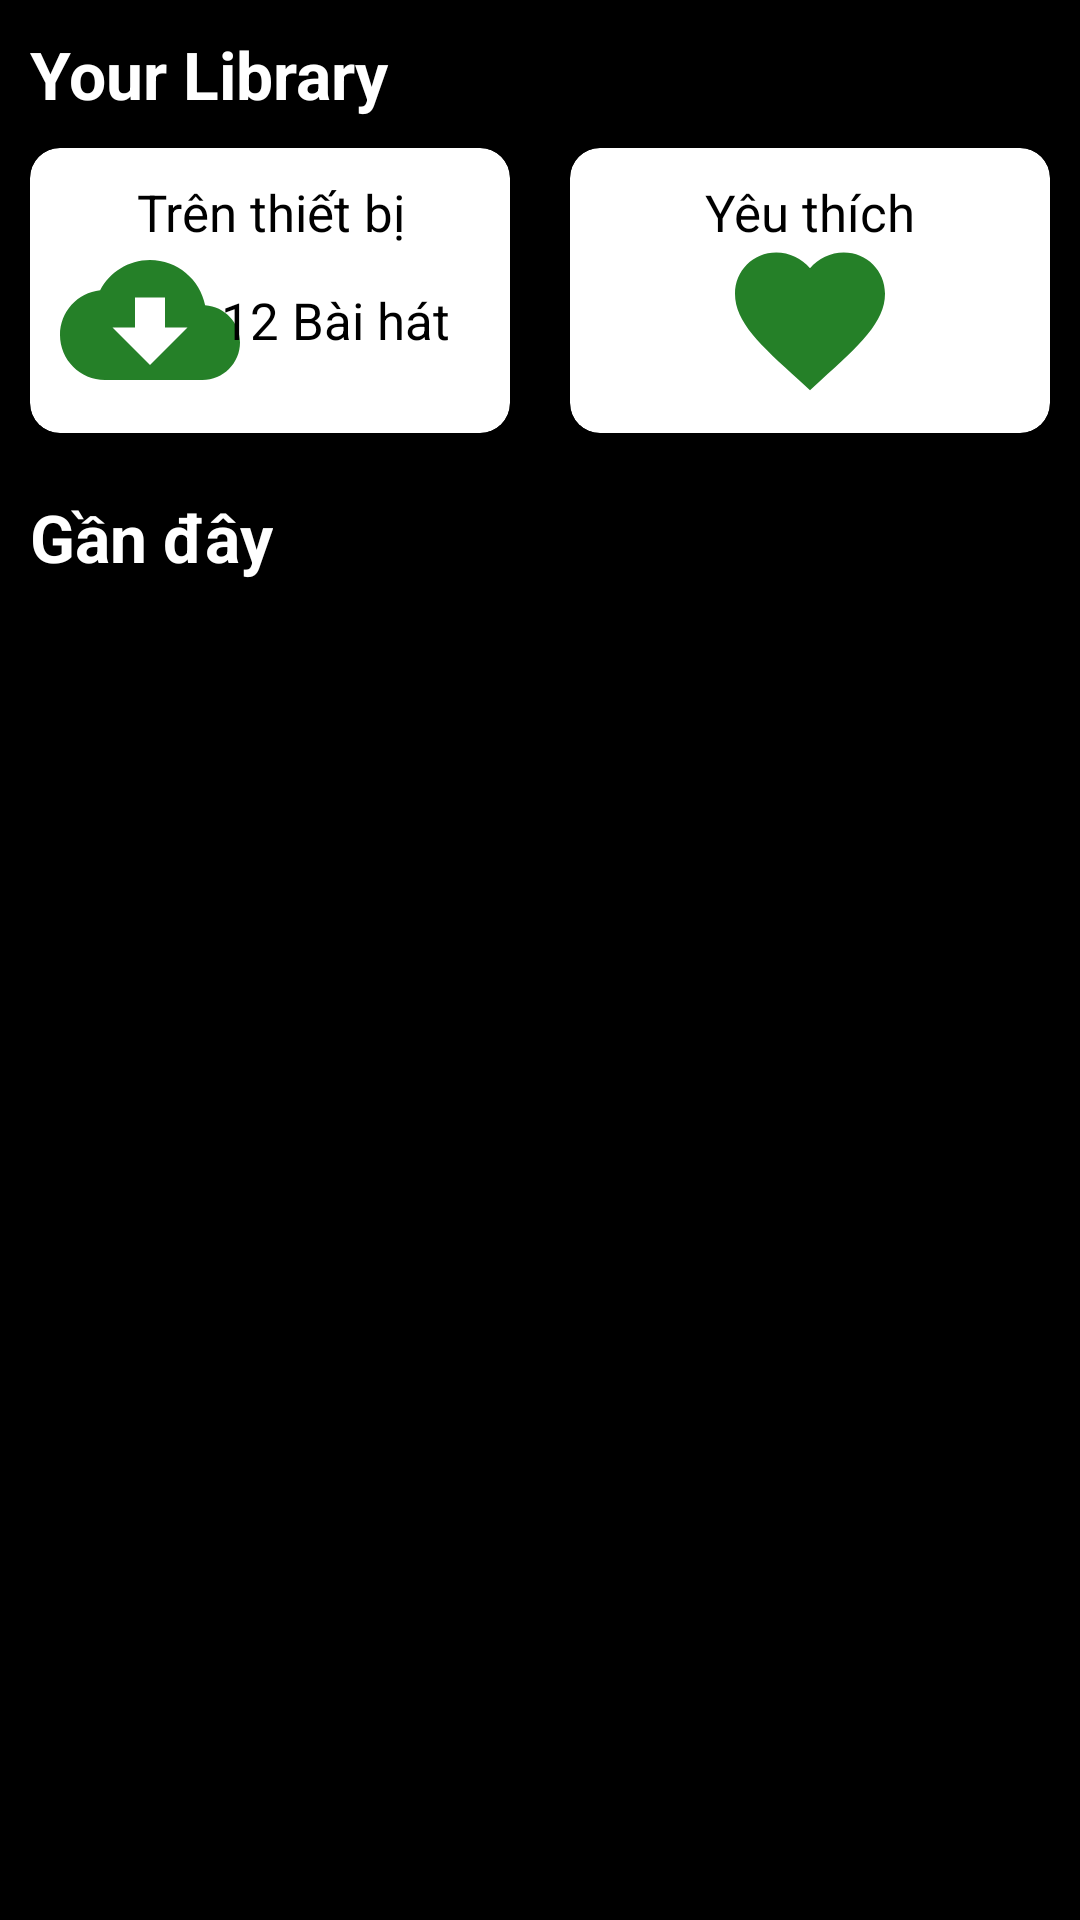

Named icons in this screenshot (1080 x 1920) and their bounding boxes, (x1, y1, x2, y2):
dowload: (60, 260, 240, 380)
